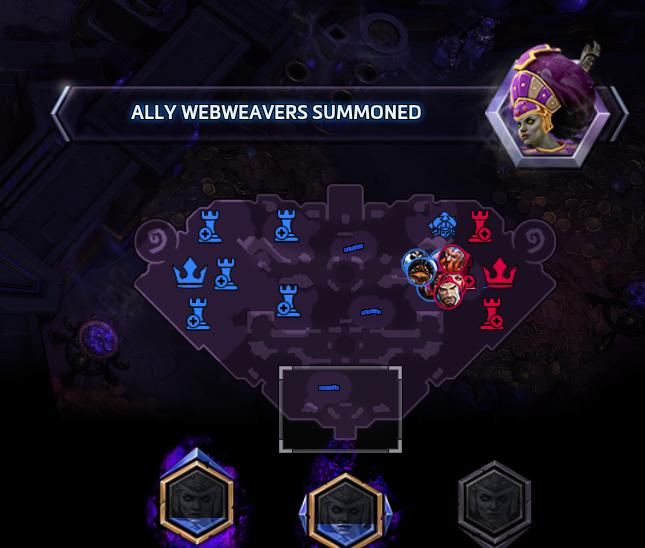blue nexus: (171, 255, 208, 288)
blue player: (403, 255, 436, 286)
blue tower: (212, 255, 239, 291), (196, 208, 223, 243), (184, 295, 211, 330), (273, 206, 299, 242), (275, 282, 301, 317)
red nexus: (482, 255, 517, 288)
red player: (432, 271, 466, 309), (433, 244, 469, 274), (415, 279, 438, 302)
red tower: (467, 208, 492, 243), (479, 296, 504, 330)
